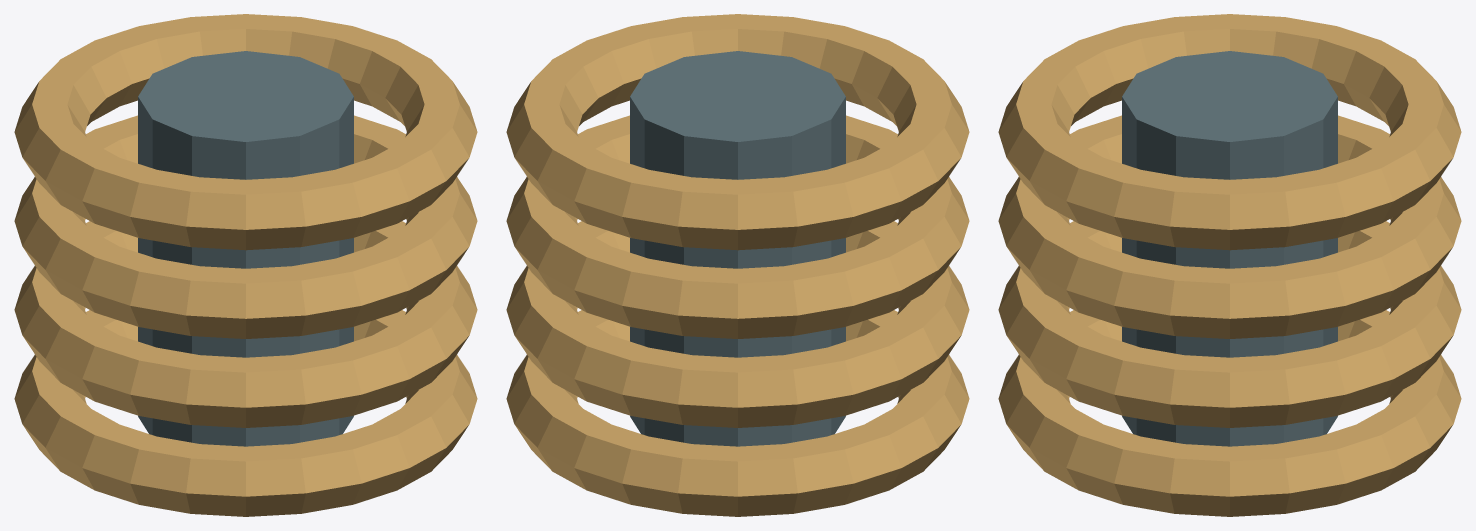
Rendered from wire.glb.
3 renders of one model, left to right at view 1: azimuth 30°, elevation 25°; view 2: azimuth 150°, elevation 25°; view 3: azimuth 270°, elevation 25°, orthographic.
Visible parts, largest first — view 1: Copper cable winding.003, Copper cable winding.002, Copper cable winding.001, Copper cable winding, Spool axis; view 2: Copper cable winding.003, Copper cable winding.002, Copper cable winding.001, Copper cable winding, Spool axis; view 3: Copper cable winding.003, Copper cable winding.002, Copper cable winding.001, Copper cable winding, Spool axis.
Boxes of the visible parts, x1,y1,x2,y2 form: Copper cable winding.003: (14, 14, 477, 250); Copper cable winding.002: (14, 115, 477, 338); Copper cable winding.001: (14, 221, 477, 427); Copper cable winding: (14, 310, 477, 516); Spool axis: (138, 51, 353, 446); Copper cable winding.003: (506, 14, 969, 250); Copper cable winding.002: (506, 115, 969, 338); Copper cable winding.001: (506, 221, 969, 427); Copper cable winding: (506, 310, 969, 516); Spool axis: (630, 51, 845, 446); Copper cable winding.003: (998, 14, 1461, 250); Copper cable winding.002: (998, 115, 1461, 338); Copper cable winding.001: (998, 221, 1461, 427); Copper cable winding: (998, 310, 1461, 516); Spool axis: (1122, 51, 1337, 446).
Bounding box in the file's own units: 0.236 × 0.1856 × 0.236.
